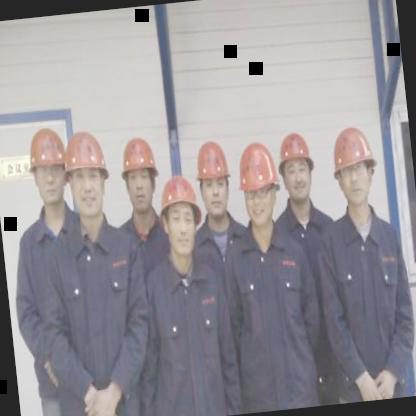helmet: (60, 124, 114, 220), (325, 119, 381, 211), (152, 166, 206, 256), (234, 138, 284, 228), (22, 121, 72, 208), (190, 132, 236, 224), (114, 130, 164, 214), (272, 124, 318, 204)
